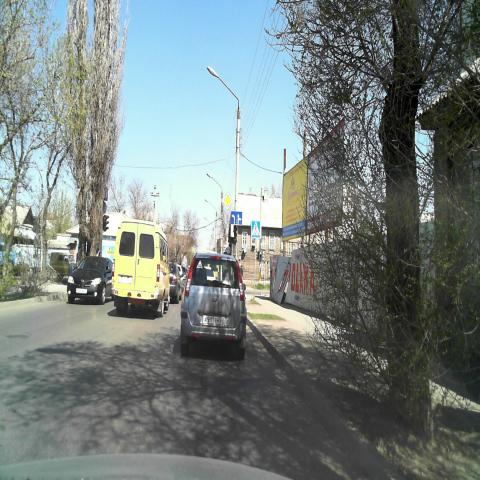5_15_2_2: (230, 211, 242, 225)
